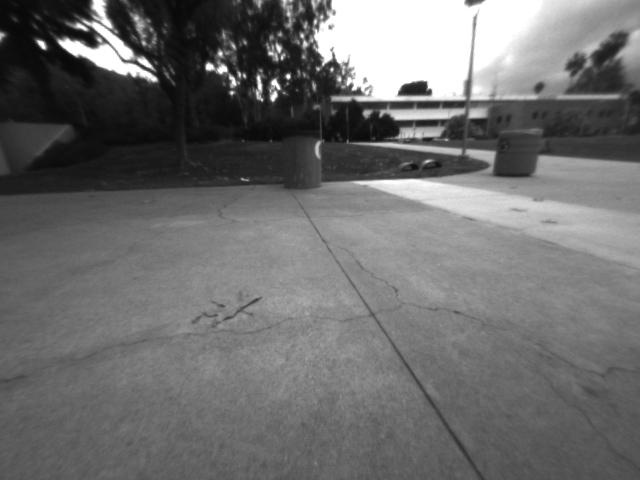trashcan: (494, 125, 541, 183), (279, 133, 327, 188)
